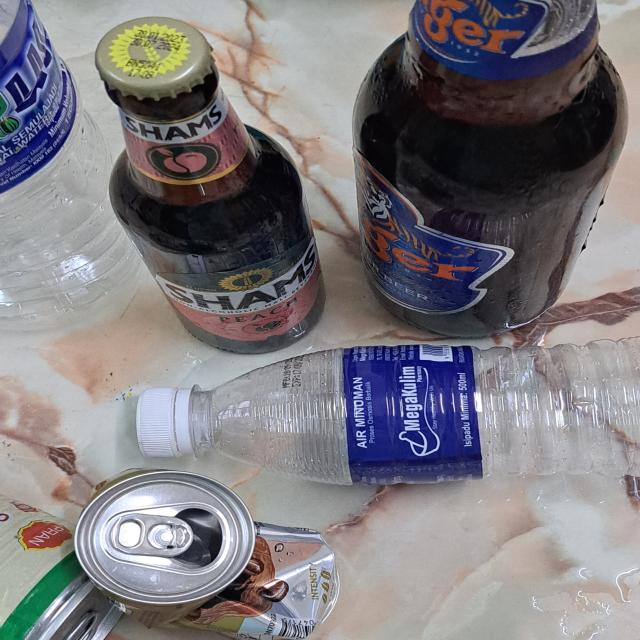can: (74, 466, 343, 640), (0, 500, 125, 640)
glass bottle: (349, 0, 630, 343), (96, 14, 330, 358)
plastic bottle: (198, 341, 640, 486), (0, 0, 150, 333)
plastic bottle cap: (139, 385, 191, 460)
pop tab: (110, 516, 196, 558)
